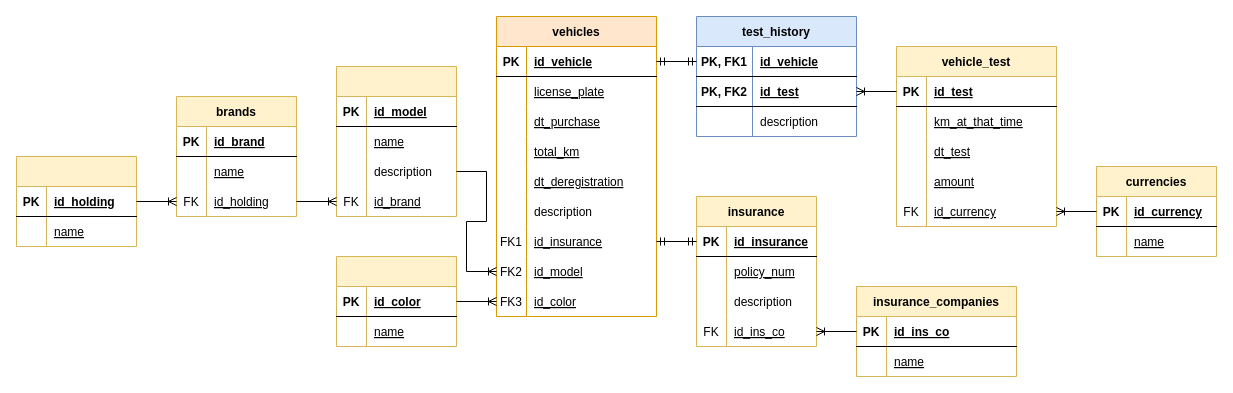
This 1233x393 diagram has some shape labels left out. The shapes that lost their labels are listed below. From the top down, each one's box as (x1, y1, x2, y2) in pixels, then its label:
(336, 66, 456, 216): models
(16, 156, 136, 246): brand_holdings
(336, 256, 456, 346): colors
